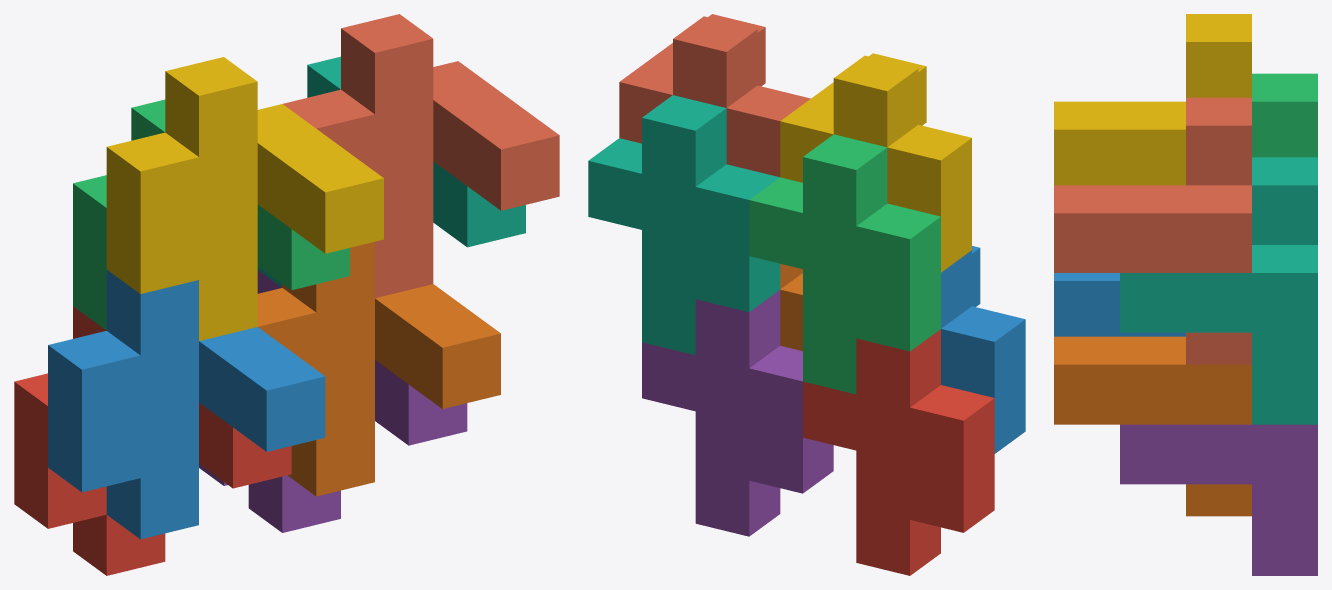
File: tiling.obj
3 views of the same model, side by side, from view 1: azimuth 30°, elevation 25°; view 2: azimuth 150°, elevation 25°; view 3: azimuth 270°, elevation 25° (orthographic). The views are drawn at different scales.
Visible parts, largest first — view 1: copy_1_domain_4, copy_1_domain_2, copy_1_domain_8, copy_1_domain_6, copy_1_domain_1, copy_1_domain_3, copy_1_domain_5, copy_1_domain_7; view 2: copy_1_domain_3, copy_1_domain_1, copy_1_domain_7, copy_1_domain_5, copy_1_domain_4, copy_1_domain_8, copy_1_domain_2, copy_1_domain_6; view 3: copy_1_domain_7, copy_1_domain_8, copy_1_domain_5, copy_1_domain_6, copy_1_domain_4, copy_1_domain_3, copy_1_domain_2.
Boxes of the visible parts, left/top/right/bottom form: copy_1_domain_4: left=106, top=57, right=383, bottom=340; copy_1_domain_2: left=48, top=270, right=325, bottom=539; copy_1_domain_8: left=283, top=14, right=559, bottom=298; copy_1_domain_6: left=257, top=241, right=500, bottom=496; copy_1_domain_1: left=14, top=306, right=291, bottom=575; copy_1_domain_3: left=73, top=99, right=349, bottom=330; copy_1_domain_5: left=199, top=270, right=467, bottom=532; copy_1_domain_7: left=257, top=56, right=525, bottom=287; copy_1_domain_3: left=749, top=134, right=940, bottom=394; copy_1_domain_1: left=803, top=329, right=994, bottom=575; copy_1_domain_7: left=588, top=95, right=780, bottom=355; copy_1_domain_5: left=642, top=290, right=833, bottom=536; copy_1_domain_4: left=780, top=53, right=971, bottom=272; copy_1_domain_8: left=619, top=14, right=810, bottom=177; copy_1_domain_2: left=941, top=246, right=1025, bottom=453; copy_1_domain_6: left=780, top=264, right=802, bottom=351; copy_1_domain_7: left=1120, top=157, right=1317, bottom=424; copy_1_domain_8: left=1054, top=97, right=1251, bottom=364; copy_1_domain_5: left=1120, top=424, right=1317, bottom=575; copy_1_domain_6: left=1054, top=336, right=1251, bottom=516; copy_1_domain_4: left=1054, top=14, right=1251, bottom=185; copy_1_domain_3: left=1252, top=73, right=1317, bottom=157; copy_1_domain_2: left=1054, top=273, right=1185, bottom=336.
Bounding box in the file's own units: 7 × 8 × 4.
